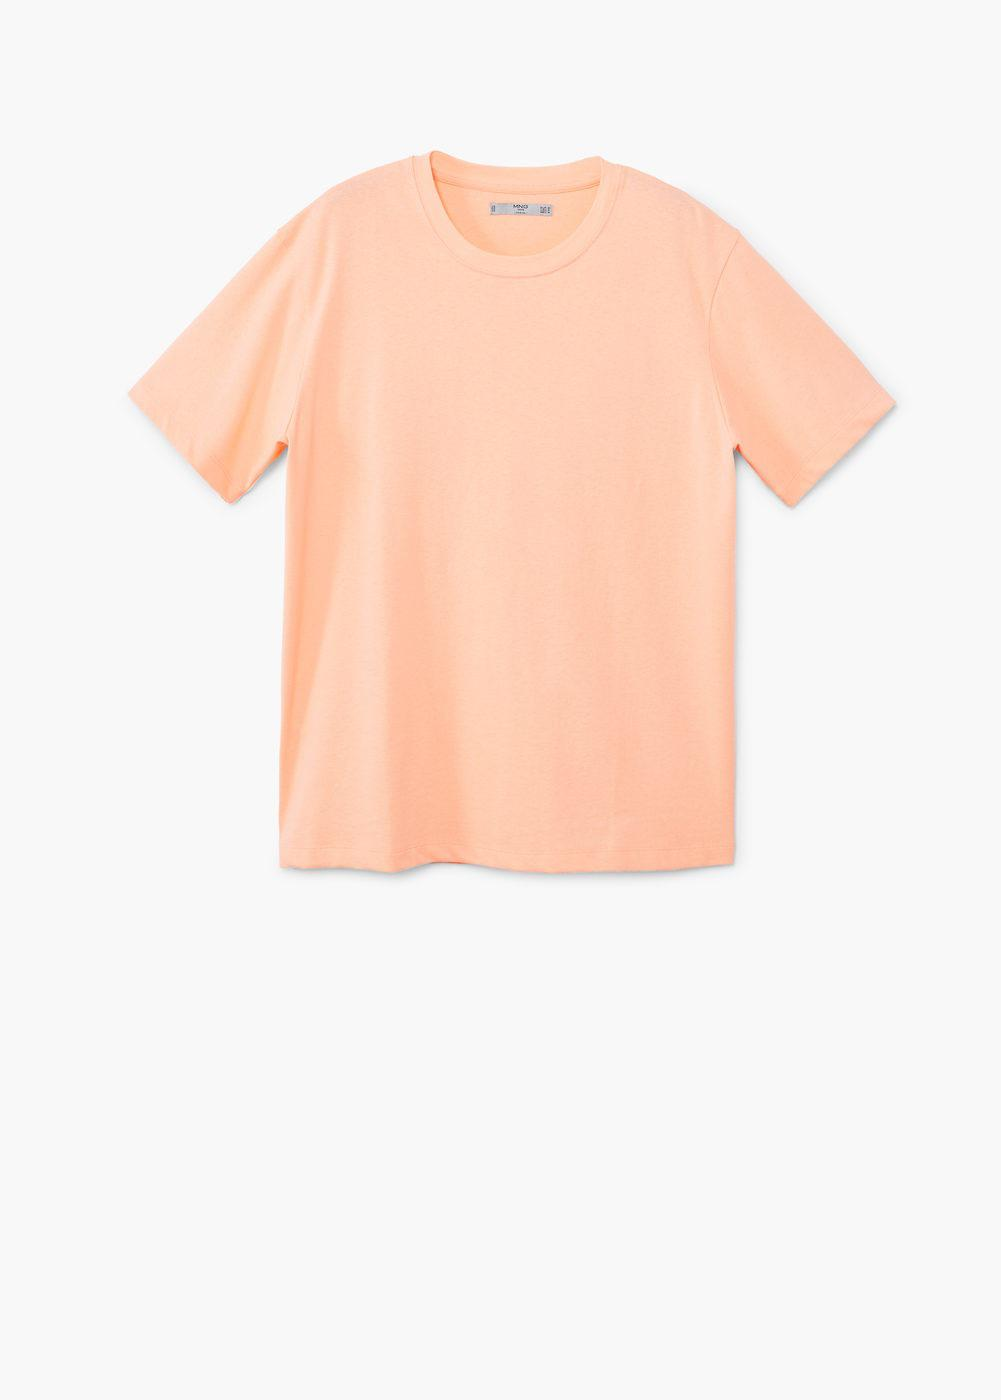teeshirt: (108, 131, 893, 933)
